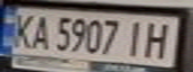0: (84, 16, 106, 55)
5: (51, 14, 72, 52)
7: (100, 17, 124, 56)
9: (66, 16, 87, 53)
A: (27, 11, 54, 52)
H: (139, 19, 178, 60)
I: (121, 18, 151, 58)
K: (6, 10, 39, 49)
